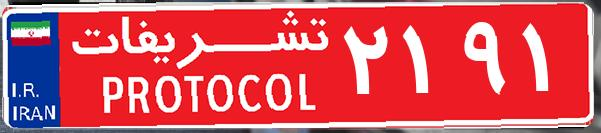1: (400, 20, 460, 115), (520, 20, 580, 115)
2: (340, 20, 400, 115)
9: (460, 20, 520, 115)
تشریفات: (60, 8, 340, 125)
